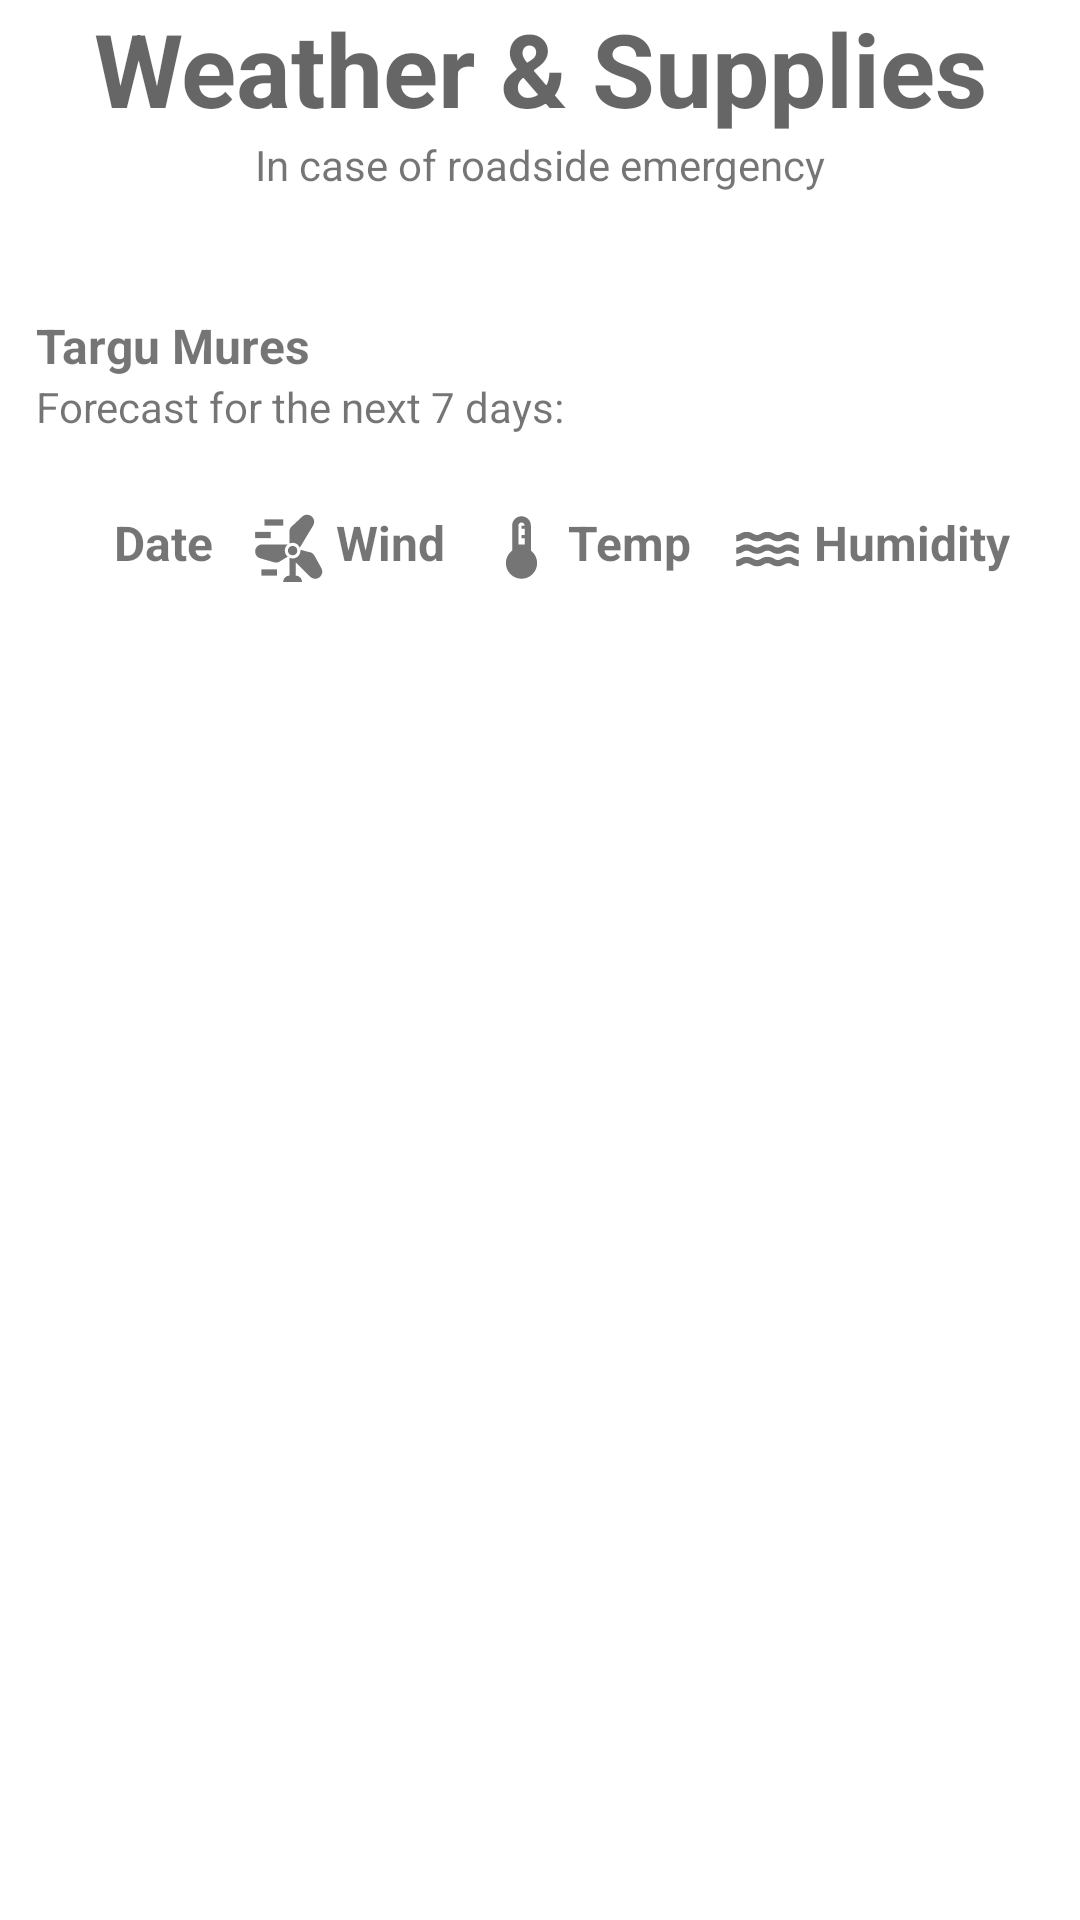

Point at icon controls on the screen. Image size 1080 × 1920, points as (x,y).
device thermostat: (521,547)
water: (767,549)
